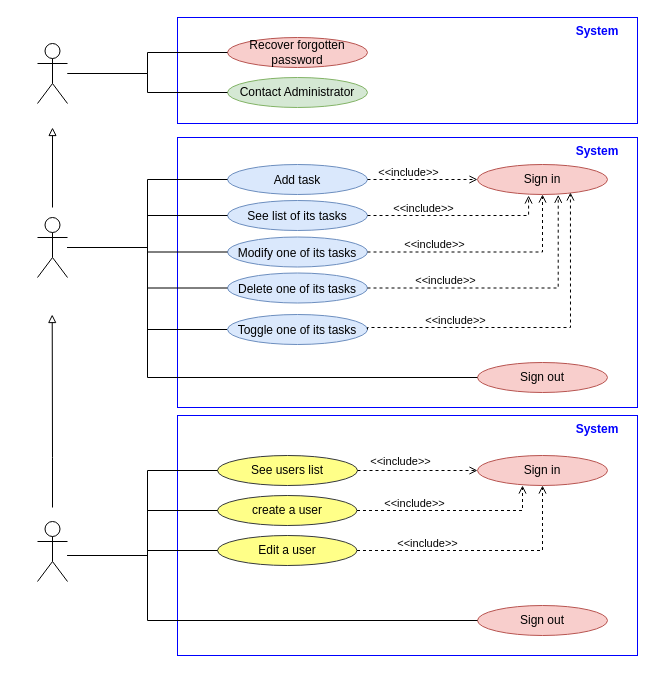
Some shapes in this 655 by 673 pixel diagram are drawn without their labels. Each missing label, with the centre of its shape:
"Administrator" belongs at (x=52, y=551).
"Registered User" belongs at (x=52, y=247).
"Visitor" belongs at (x=52, y=73).
